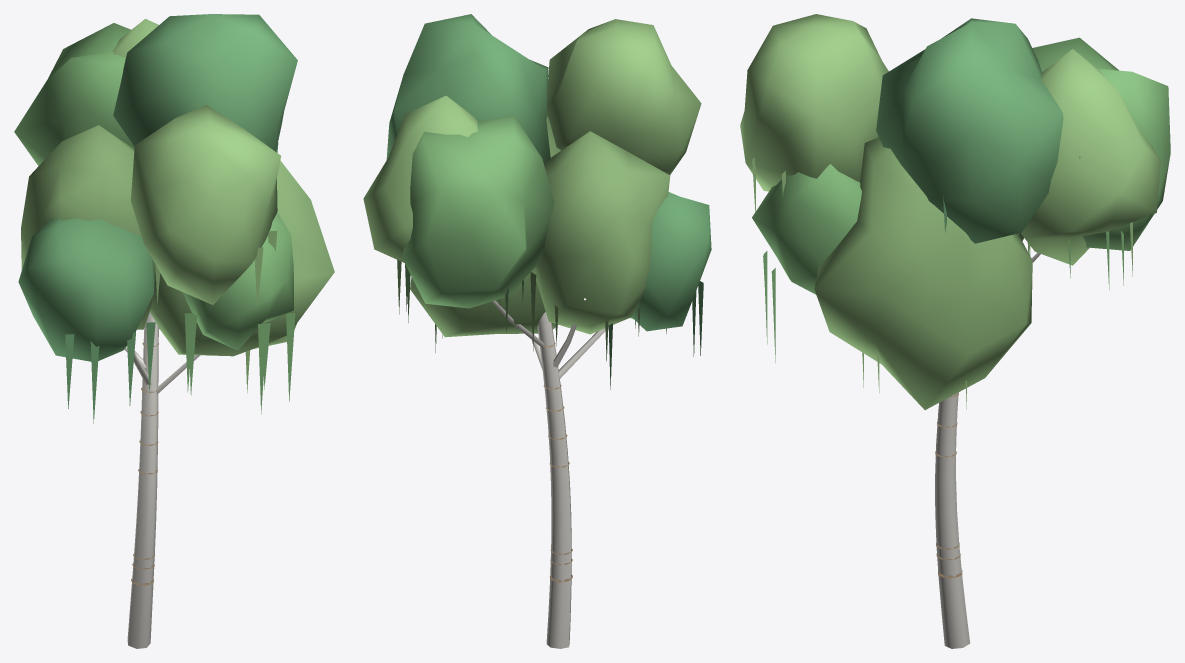
The model's file is birke_1.glb.
The picture shows the model from 3 angles, left to right: view 1: azimuth 30°, elevation 25°; view 2: azimuth 150°, elevation 25°; view 3: azimuth 270°, elevation 25°; orthographic projection. The views are drawn at different scales.
Visible parts, largest first — view 1: G_birke_1; view 2: G_birke_1; view 3: G_birke_1.
Boxes of the visible parts, <box> form: G_birke_1: <box>14,14,334,648</box>; G_birke_1: <box>363,14,711,648</box>; G_birke_1: <box>740,14,1170,648</box>.
Size of the model in its own units: 4.43 by 9.2 by 5.4.
